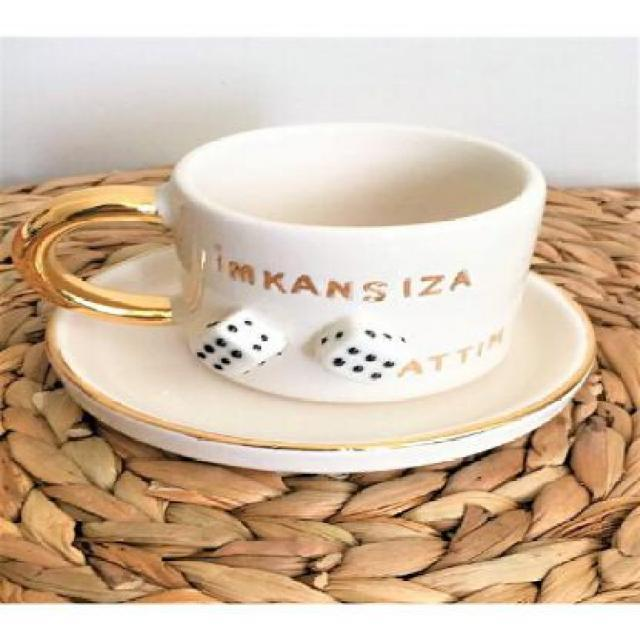taza: (10, 124, 545, 408)
